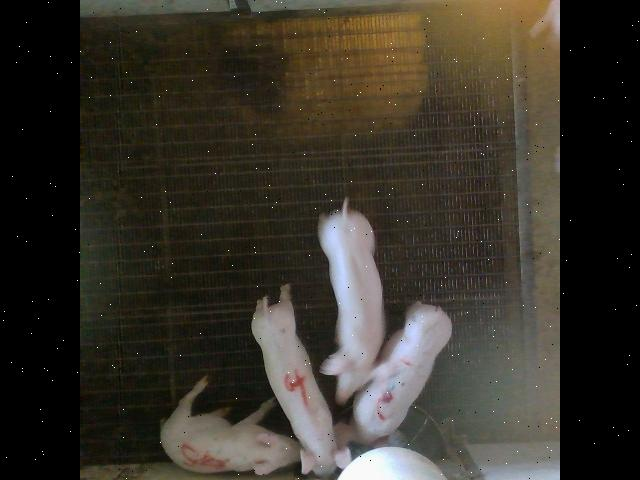pig-4: (251, 284, 351, 475), (334, 301, 451, 446)
pig-5: (161, 376, 299, 474)
